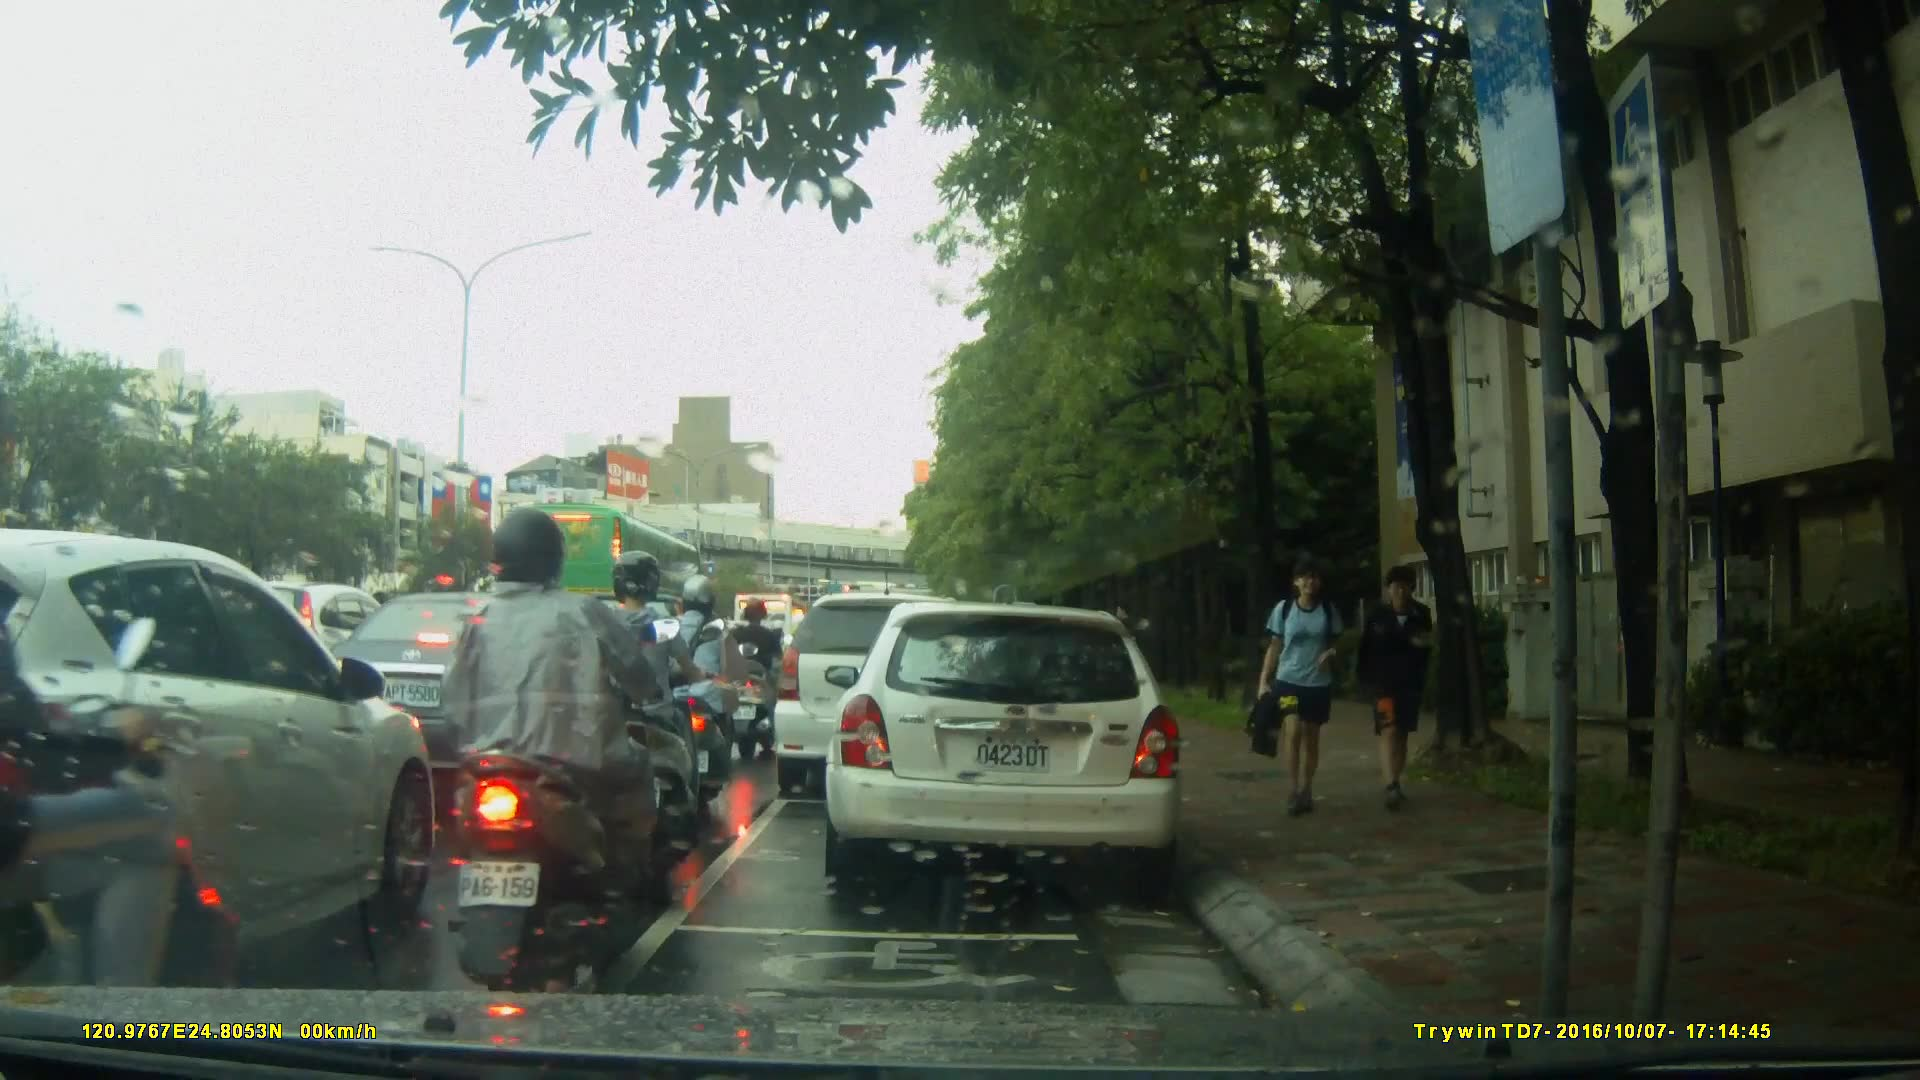pedestrian: (1236, 558, 1349, 821), (1360, 566, 1443, 810), (1111, 599, 1135, 676)
rider: (1, 366, 239, 1080), (441, 512, 680, 986), (580, 554, 711, 876), (659, 574, 742, 803), (726, 598, 791, 764)
vehicle: (1, 528, 450, 988), (831, 592, 1196, 897), (316, 590, 627, 796), (770, 591, 999, 803), (495, 500, 707, 636)
